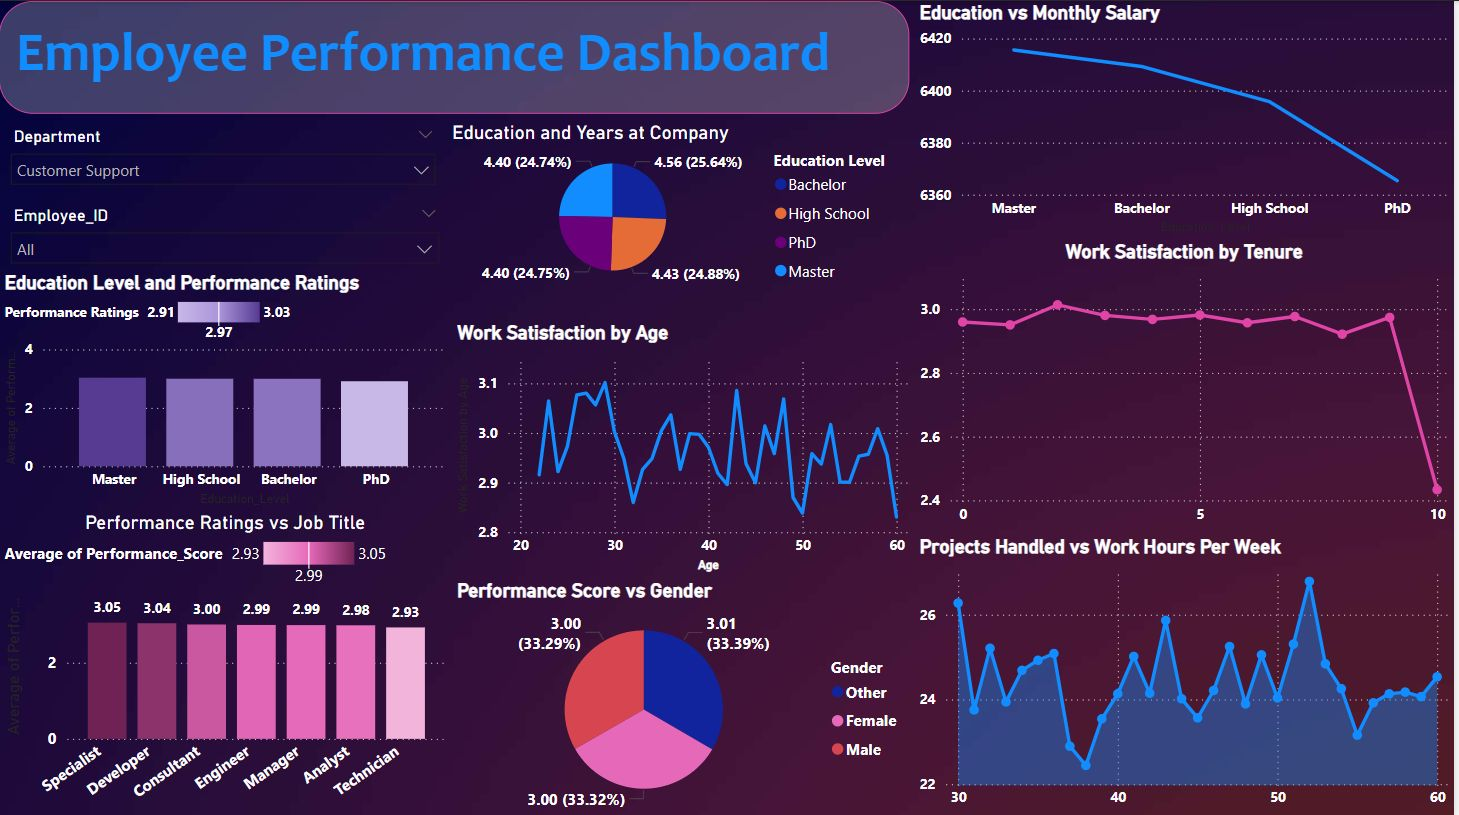

Layout of this report page (visuals, bound fields, positions):
{"tool":"powerbi","page":{"name":"Page 1","canvas":[1280,720],"ordinal":0},"visuals":[{"type":"textbox","box":[0,0,800.7,99.6],"z":0},{"type":"clusteredColumnChart","title":"Performance Ratings vs Job Title","fields":{"Category":["Extended_Employee_Performance_and_Productivity_Data.Job_Title"],"Y":["Avg(Extended_Employee_Performance_and_Productivity_Data.Performance_Score)"]},"box":[0,448.7,398.2,270.6],"z":1000},{"type":"lineChart","title":"Work Satisfaction by Tenure","fields":{"Category":["Extended_Employee_Performance_and_Productivity_Data.Years_At_Company"],"Y":["Avg(Extended_Employee_Performance_and_Productivity_Data.Employee_Satisfaction_Score)"]},"box":[804.9,210.3,475.4,259.4],"z":2000},{"type":"clusteredColumnChart","title":"Education Level and Performance Ratings","fields":{"Category":["Extended_Employee_Performance_and_Productivity_Data.Education_Level"],"Y":["Avg(Extended_Employee_Performance_and_Productivity_Data.Performance_Score)"]},"box":[0,237,398.2,211.7],"z":3000},{"type":"areaChart","title":"Projects Handled vs Work Hours Per Week","fields":{"Category":["Extended_Employee_Performance_and_Productivity_Data.Work_Hours_Per_Week"],"Y":["Avg(Extended_Employee_Performance_and_Productivity_Data.Projects_Handled)"]},"box":[804.9,469.8,475.4,249.6],"z":4000},{"type":"pieChart","title":"Performance Score vs Gender","fields":{"Category":["Extended_Employee_Performance_and_Productivity_Data.Gender"],"Y":["Avg(Extended_Employee_Performance_and_Productivity_Data.Performance_Score)"]},"box":[398.2,507.6,406.7,211.7],"z":5000},{"type":"lineChart","title":"Work Satisfaction by Age","fields":{"Y":["Avg(Extended_Employee_Performance_and_Productivity_Data.Employee_Satisfaction_Score)"],"Category":["Extended_Employee_Performance_and_Productivity_Data.Age"]},"box":[398.2,281.9,406.7,225.8],"z":6000},{"type":"lineChart","title":"Education vs Monthly Salary","fields":{"Category":["Extended_Employee_Performance_and_Productivity_Data.Education_Level"],"Y":["Avg(Extended_Employee_Performance_and_Productivity_Data.Monthly_Salary)"]},"box":[804.9,0,475.4,210.3],"z":7000},{"type":"slicer","fields":{"Values":["Extended_Employee_Performance_and_Productivity_Data.Department"]},"box":[0,105.2,394,63.1],"z":7001},{"type":"slicer","fields":{"Values":["Extended_Employee_Performance_and_Productivity_Data.Employee_ID"]},"box":[0,175.3,396.8,61.7],"z":7002},{"type":"pieChart","title":"Education and Years at Company","fields":{"Category":["Extended_Employee_Performance_and_Productivity_Data.Education_Level"],"Y":["Avg(Extended_Employee_Performance_and_Productivity_Data.Years_At_Company)"]},"box":[394,105.2,406.7,150],"z":7003}]}

Visuals, with their boxes in screenshot pixels (x1, y1, x2, y2), scaled from the page's 1280x720 canvas onto the 1459x815 screenshot:
textbox: bbox(0, 0, 913, 113)
"Performance Ratings vs Job Title" clusteredColumnChart: bbox(0, 508, 454, 814)
"Work Satisfaction by Tenure" lineChart: bbox(917, 238, 1458, 532)
"Education Level and Performance Ratings" clusteredColumnChart: bbox(0, 268, 454, 508)
"Projects Handled vs Work Hours Per Week" areaChart: bbox(917, 532, 1458, 814)
"Performance Score vs Gender" pieChart: bbox(454, 575, 917, 814)
"Work Satisfaction by Age" lineChart: bbox(454, 319, 917, 575)
"Education vs Monthly Salary" lineChart: bbox(917, 0, 1458, 238)
slicer - Extended_Employee_Performance_and_Productivity_Data.Department: bbox(0, 119, 449, 191)
slicer - Extended_Employee_Performance_and_Productivity_Data.Employee_ID: bbox(0, 198, 452, 268)
"Education and Years at Company" pieChart: bbox(449, 119, 913, 289)
